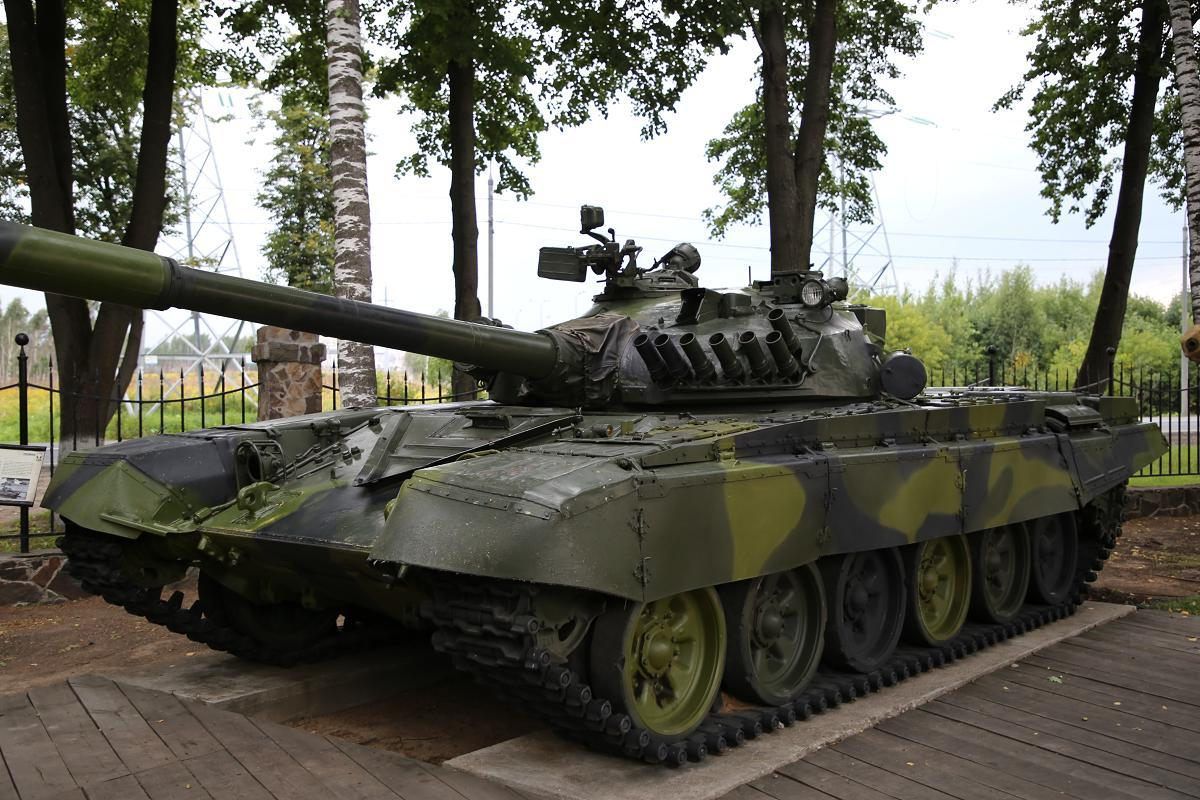tank: (1, 182, 1159, 765)
